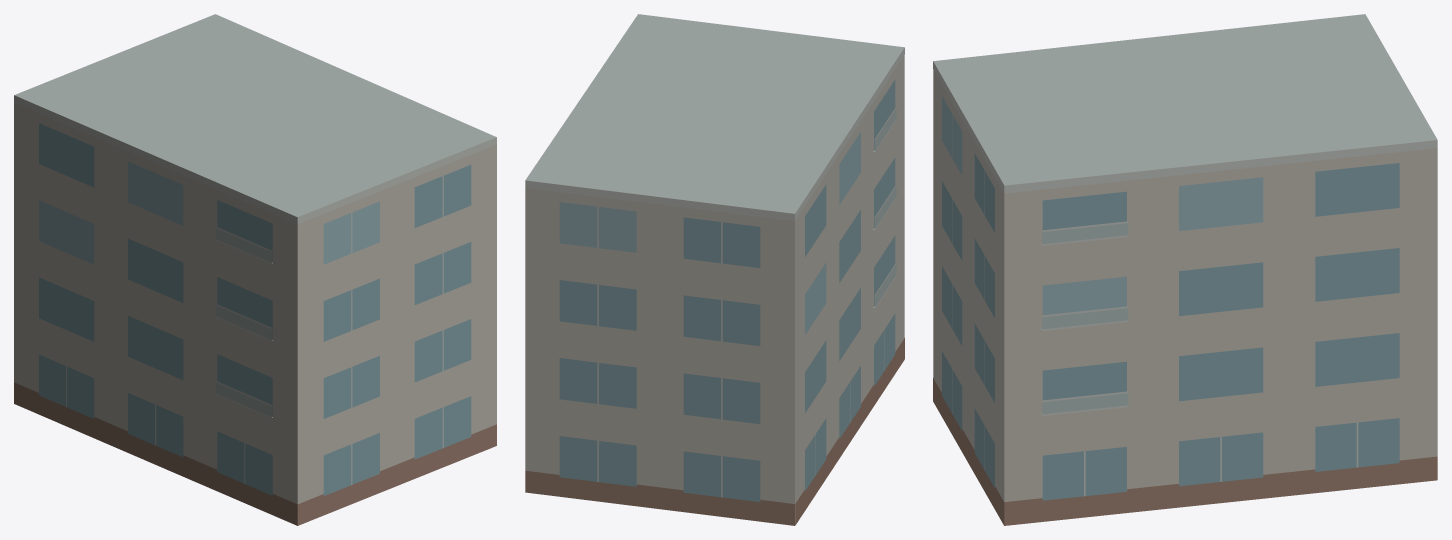
The model's file is survey-upis-32925525.glb.
The picture shows the model from 3 angles, left to right: view 1: azimuth 30°, elevation 25°; view 2: azimuth 150°, elevation 25°; view 3: azimuth 270°, elevation 25°; orthographic projection. The views are drawn at different scales.
Parts seen in each view (by area): view 1: survey-upis-32925525.tmp; view 2: survey-upis-32925525.tmp; view 3: survey-upis-32925525.tmp.
Part boxes in pixels (x1,y1,x2,y2): survey-upis-32925525.tmp: (14,14,496,525); survey-upis-32925525.tmp: (525,14,904,525); survey-upis-32925525.tmp: (933,14,1437,525).
Size of the model in its own units: 11.26 by 10.4 by 13.99.
